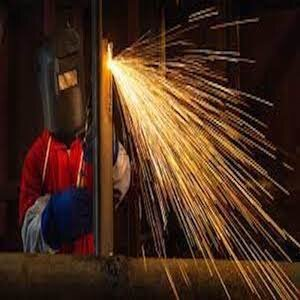heat: (108, 41, 271, 247)
safety: (45, 28, 89, 134)
